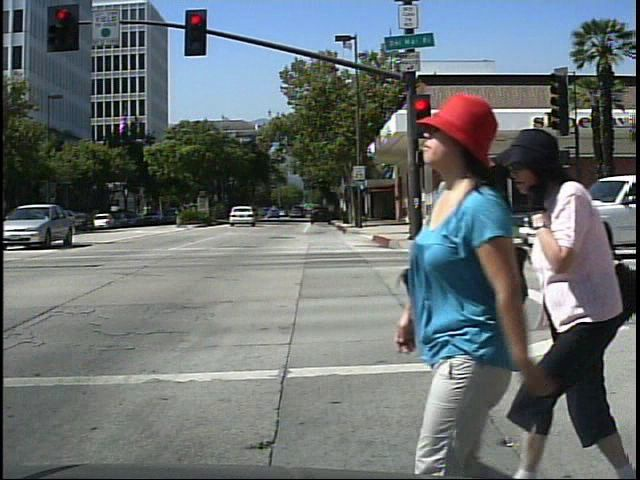person: (398, 69, 577, 479), (510, 117, 628, 479)
